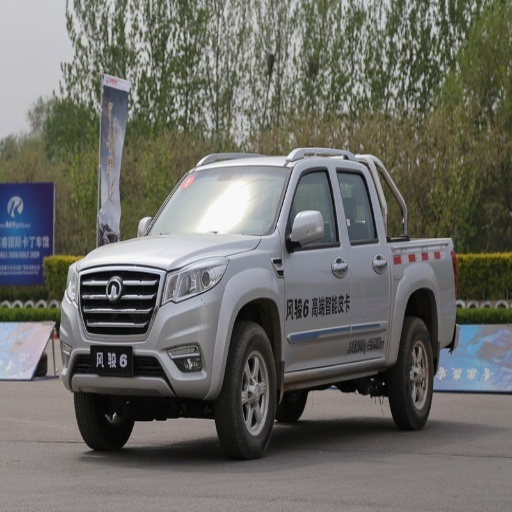front_bumper: (60, 262, 235, 399)
front_glass: (146, 166, 289, 234)
front_left_door: (283, 163, 351, 370)
trunk: (394, 243, 455, 348)
